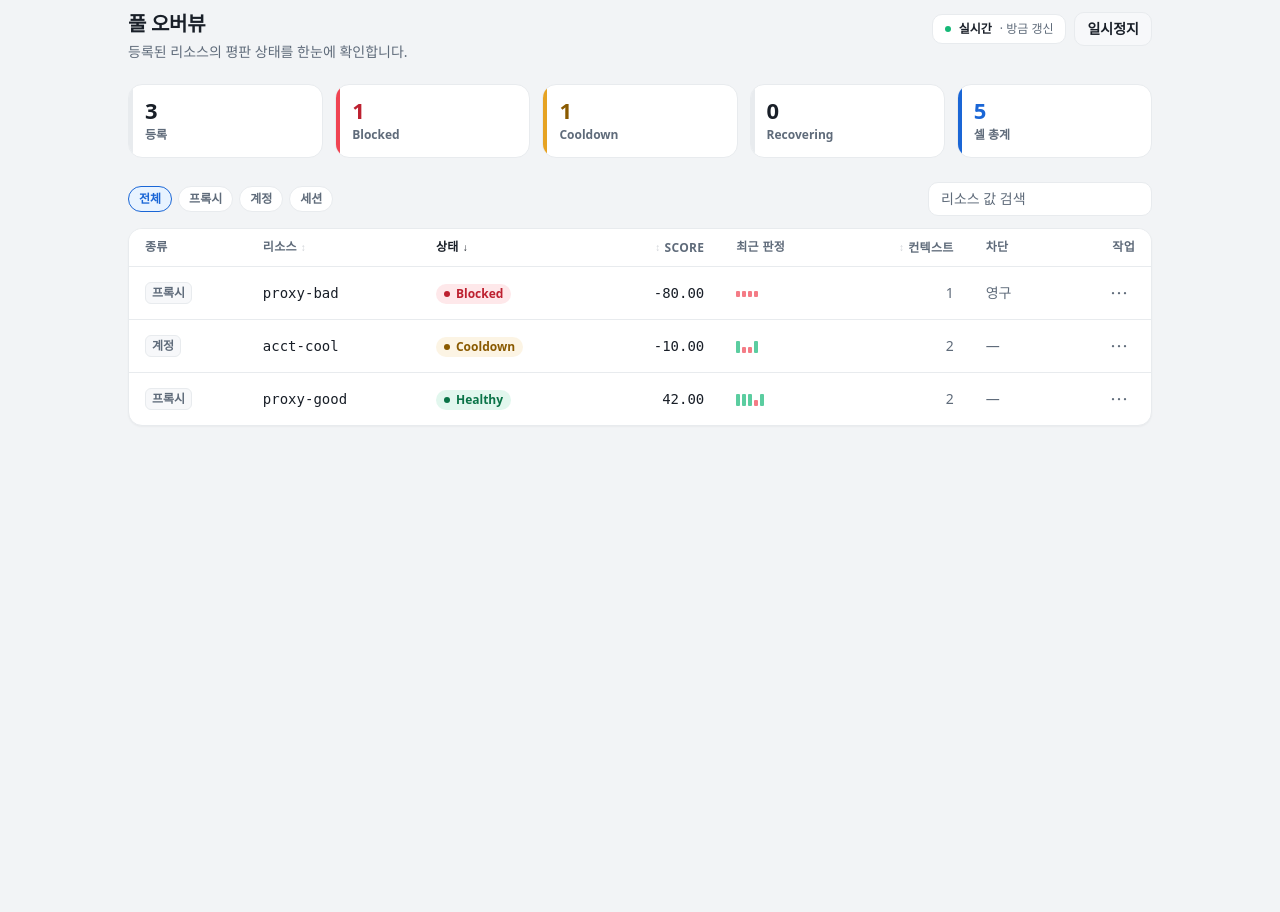
Test: 풀 오버뷰 화면 (integration + MSW) › 행 오버플로 메뉴에서 영구 차단하면 성공 토스트를 띄운다
Expected: the link "proxy-good" is shown, [263, 391, 347, 407]
Click the button named "proxy-good 작업 메뉴 열기": (1119, 399) [1103, 383, 1135, 415]
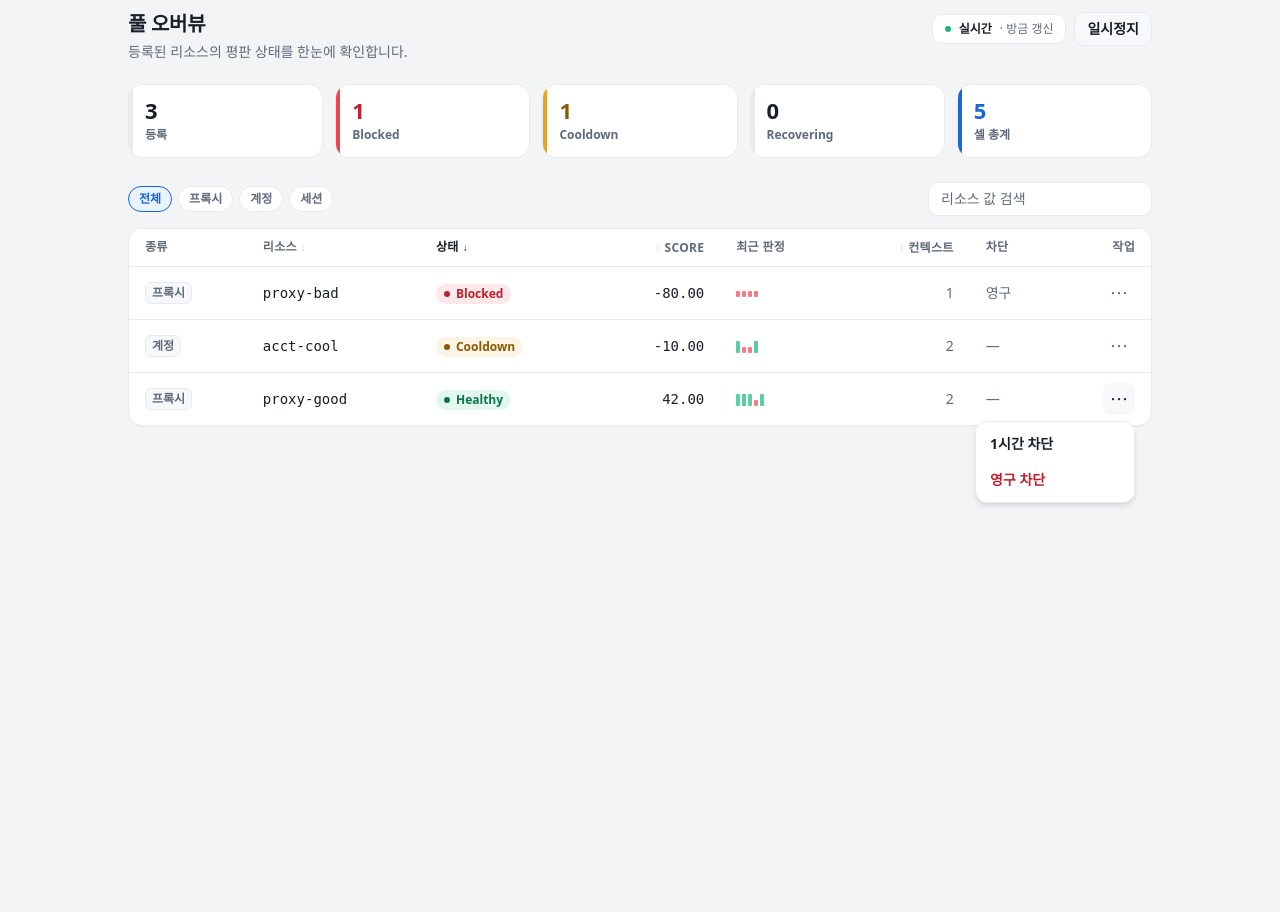
Click the menu item "영구 차단": (1018, 480) [990, 470, 1045, 489]
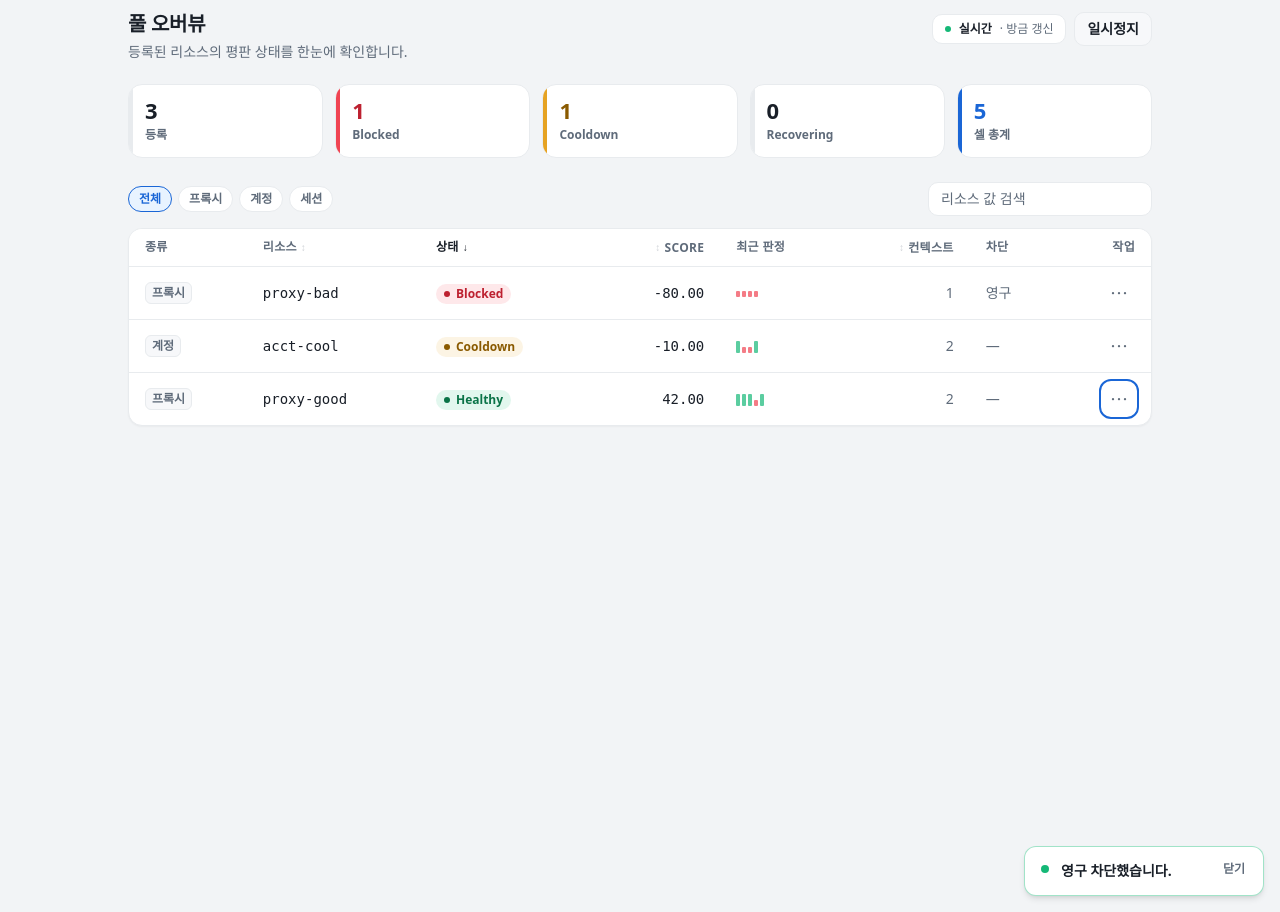
Expected: the message shows "영구 차단했습니다", [1061, 861, 1172, 880]
